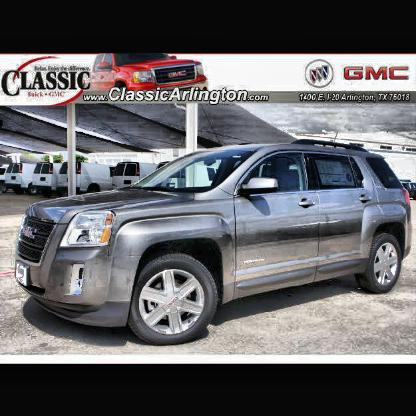GMC Terrain SUV 2012: (16, 140, 414, 347)
